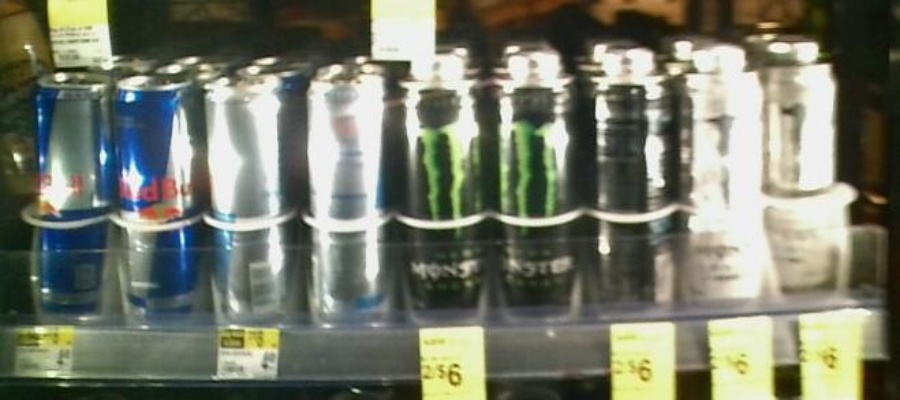bottle: (299, 62, 393, 327), (201, 72, 296, 327), (768, 42, 859, 303), (111, 62, 194, 330), (397, 70, 485, 317), (679, 45, 761, 306), (492, 65, 578, 313), (587, 65, 673, 310), (31, 69, 107, 330)
